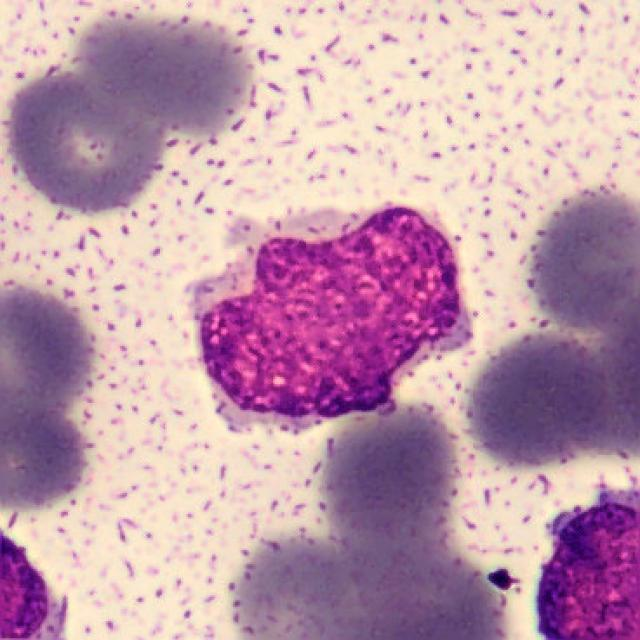Mieloblasto: (198, 206, 470, 432)
